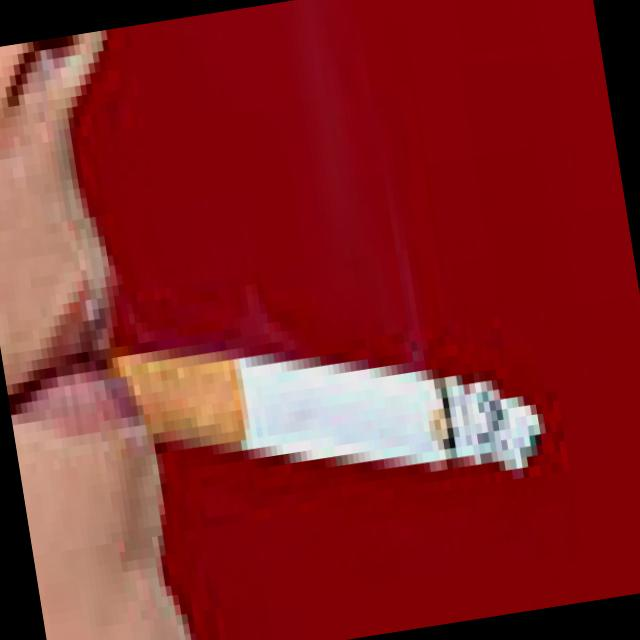cigarette: (116, 286, 554, 552)
